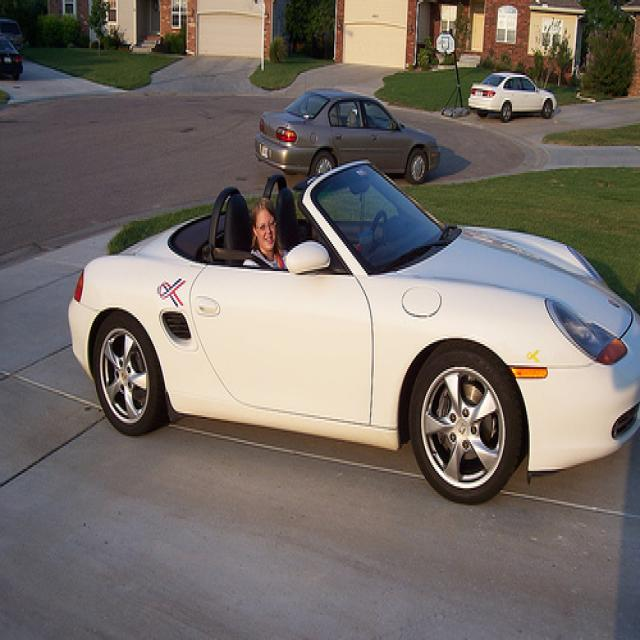light_vehicle: (65, 154, 639, 502), (252, 82, 439, 182), (466, 67, 555, 119)
